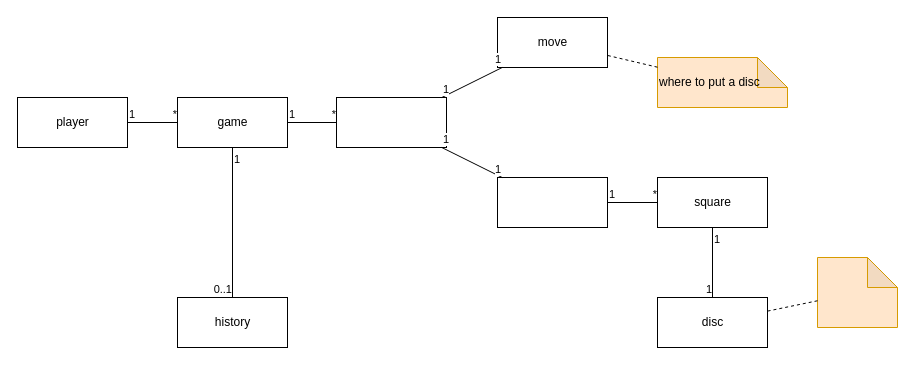
The diagram is 915 pixels wide and 365 high, and some of its shapes have lost their labels. Each missing label, with the box of its shape:
board: (496, 176, 608, 228)
turn: (336, 96, 446, 148)
石の種類 ・空 ・黒 ・白: (816, 256, 898, 328)
